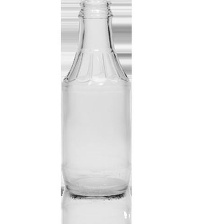bottle: (59, 0, 138, 199)
